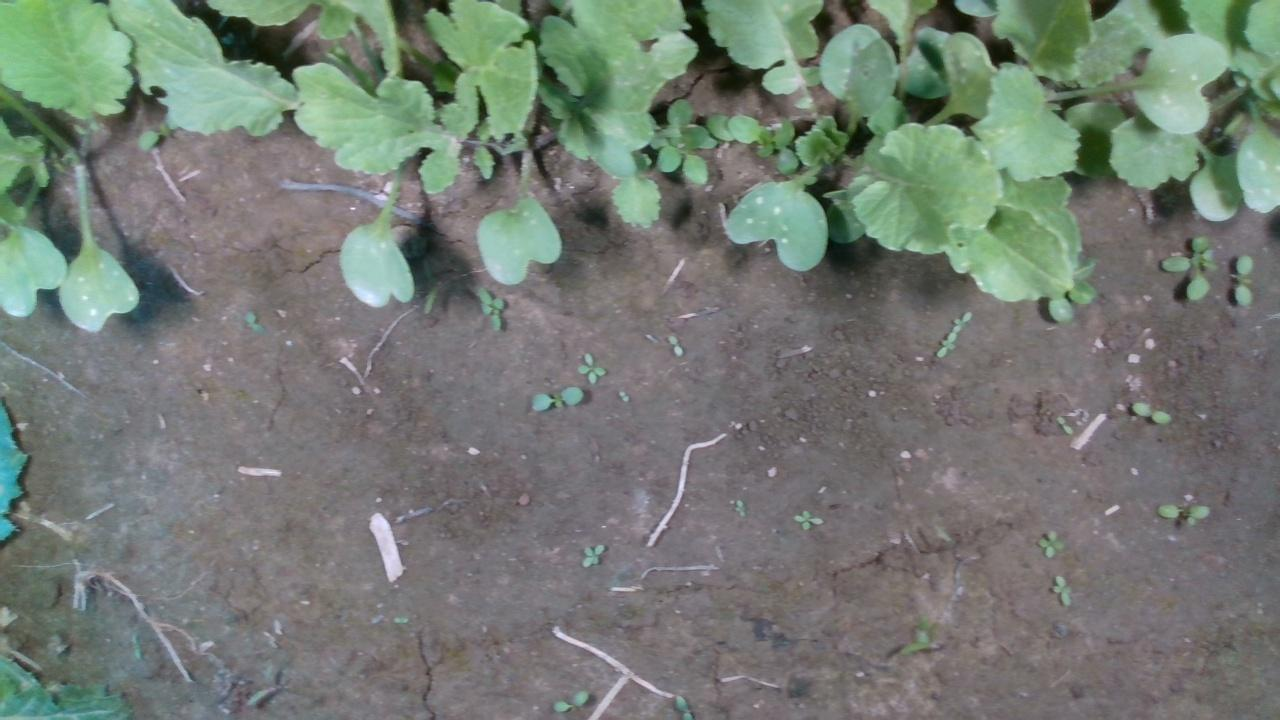weed: (531, 385, 584, 412), (477, 286, 506, 332), (1229, 254, 1254, 307), (1156, 502, 1210, 525), (575, 351, 607, 384), (1130, 400, 1172, 424), (552, 687, 590, 711), (1037, 526, 1064, 557), (792, 507, 824, 530), (1050, 573, 1072, 605), (581, 541, 604, 567), (934, 331, 956, 356), (244, 310, 265, 334), (950, 309, 971, 332), (666, 332, 683, 356), (1054, 414, 1072, 435), (732, 496, 746, 519)
